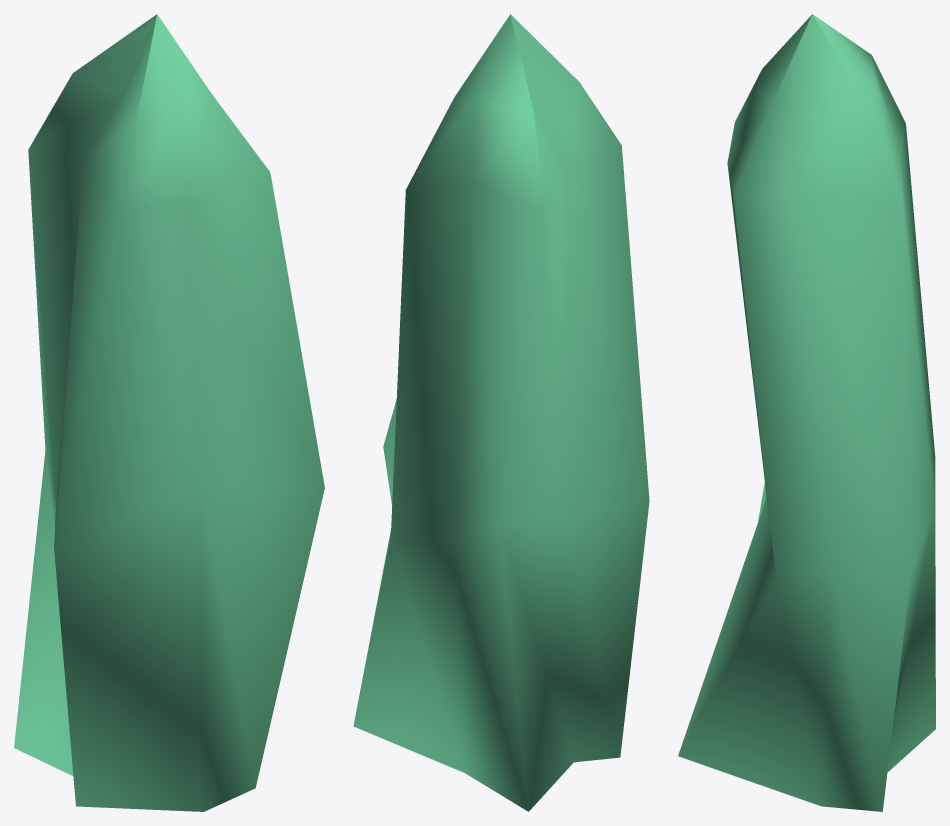
The model's file is Crystal.fbx.
3 views of the same model, side by side, from view 1: azimuth 30°, elevation 25°; view 2: azimuth 150°, elevation 25°; view 3: azimuth 270°, elevation 25° (orthographic). The views are drawn at different scales.
Visible parts, largest first — view 1: Crystal; view 2: Crystal; view 3: Crystal.
Boxes of the visible parts, x1,y1,x2,y2 form: Crystal: (14, 14, 324, 811); Crystal: (353, 14, 649, 811); Crystal: (678, 14, 935, 811).
Size of the model in its own units: 3.78 by 10.07 by 3.11.
